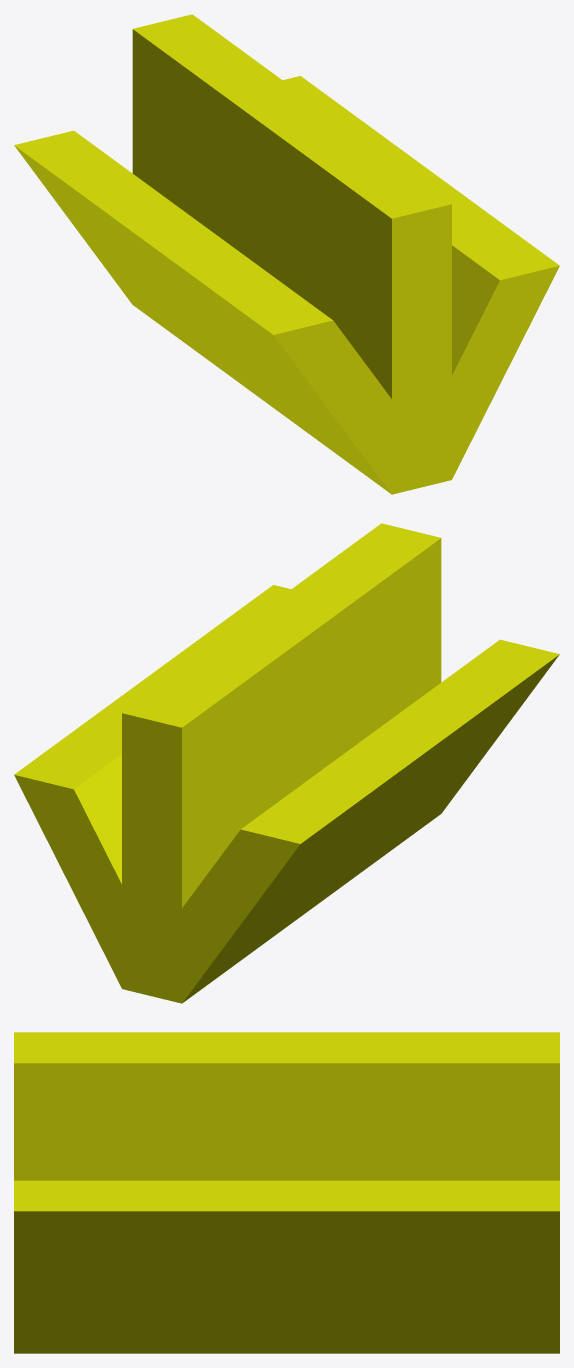
The model's file is arow.fbx.
The picture shows the model from 3 angles, top to bottom: view 1: azimuth 30°, elevation 25°; view 2: azimuth 150°, elevation 25°; view 3: azimuth 270°, elevation 25°; orthographic projection. The views are drawn at different scales.
Parts seen in each view (by area): view 1: Cube; view 2: Cube; view 3: Cube.
Part boxes in pixels (<box>): Cube: <box>14,14,559,494</box>; Cube: <box>14,523,559,1003</box>; Cube: <box>14,1032,559,1353</box>.
Size of the model in its own units: 148 by 136 by 231.
